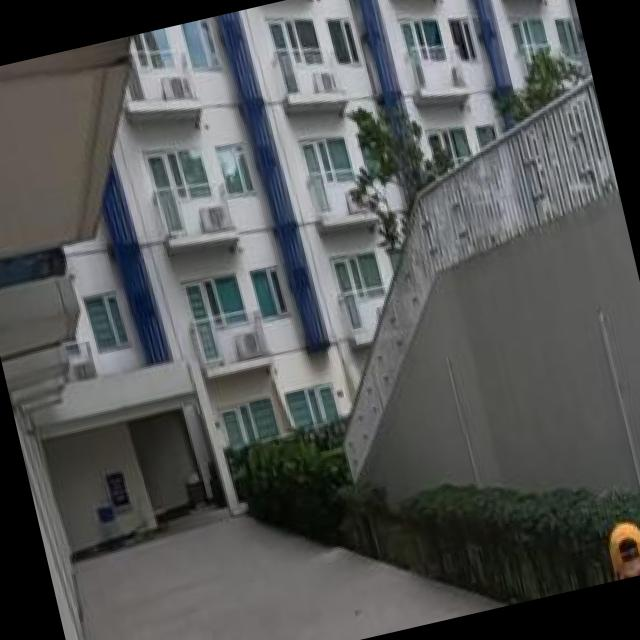Guns: (620, 565, 640, 578)
